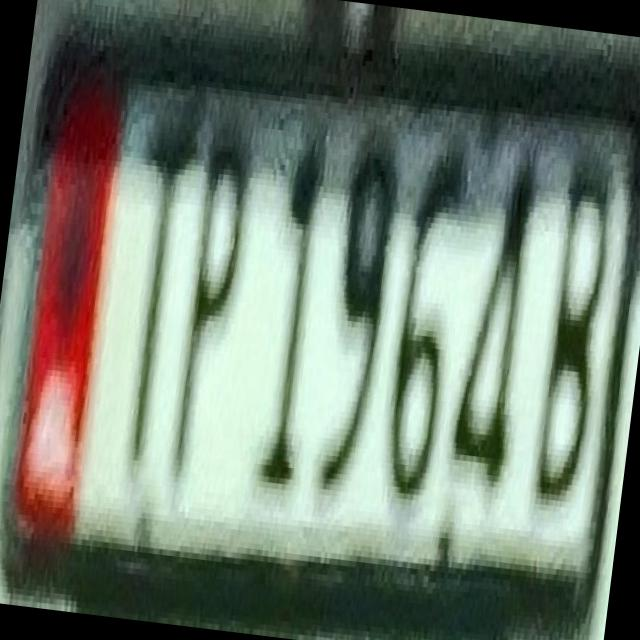1: (228, 100, 339, 502)
5: (368, 118, 482, 508)
9: (294, 103, 410, 505)
A: (438, 126, 554, 495)
B: (514, 130, 624, 509)
P: (153, 85, 266, 488)
T: (94, 84, 208, 486)
